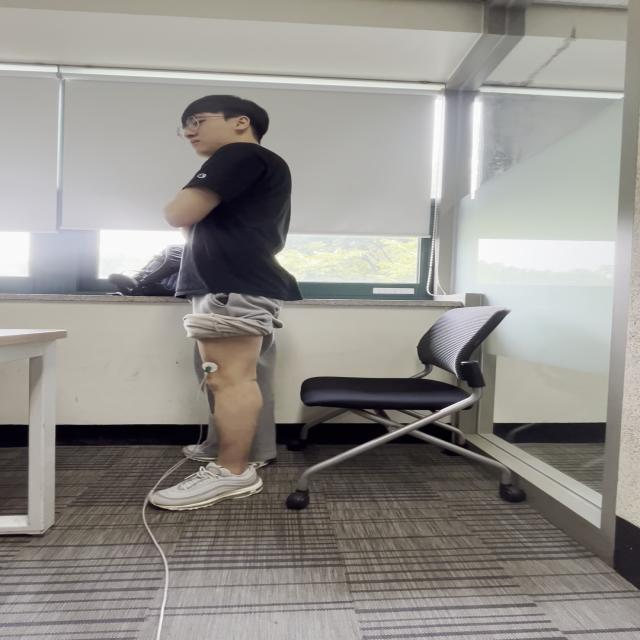stand: (180, 152, 280, 496), (192, 260, 286, 508)
